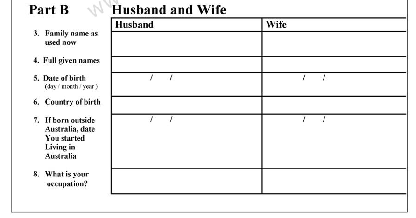textbox: (109, 112, 265, 172), (261, 111, 411, 171), (110, 29, 265, 59), (259, 29, 409, 60), (109, 69, 264, 99), (109, 166, 264, 196), (261, 165, 411, 196), (260, 69, 409, 99), (109, 93, 265, 116), (259, 93, 410, 116), (109, 55, 265, 75), (260, 55, 411, 74)
